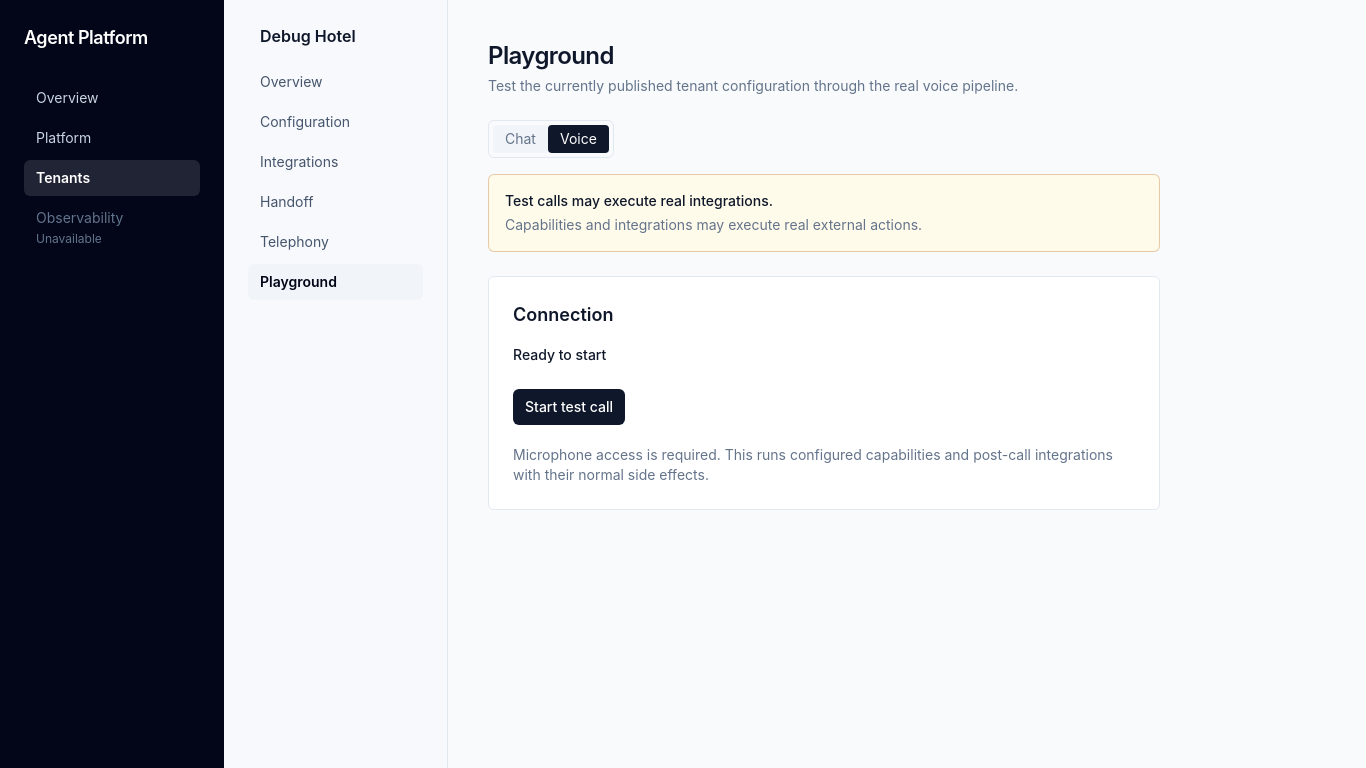
Test: Playground voice call › distinguishes session, connection, and lost-connection failures
The width and height of the screenshot is (1366, 768).
Click the button "Start test call" at (569, 407), box [513,389,625,425]
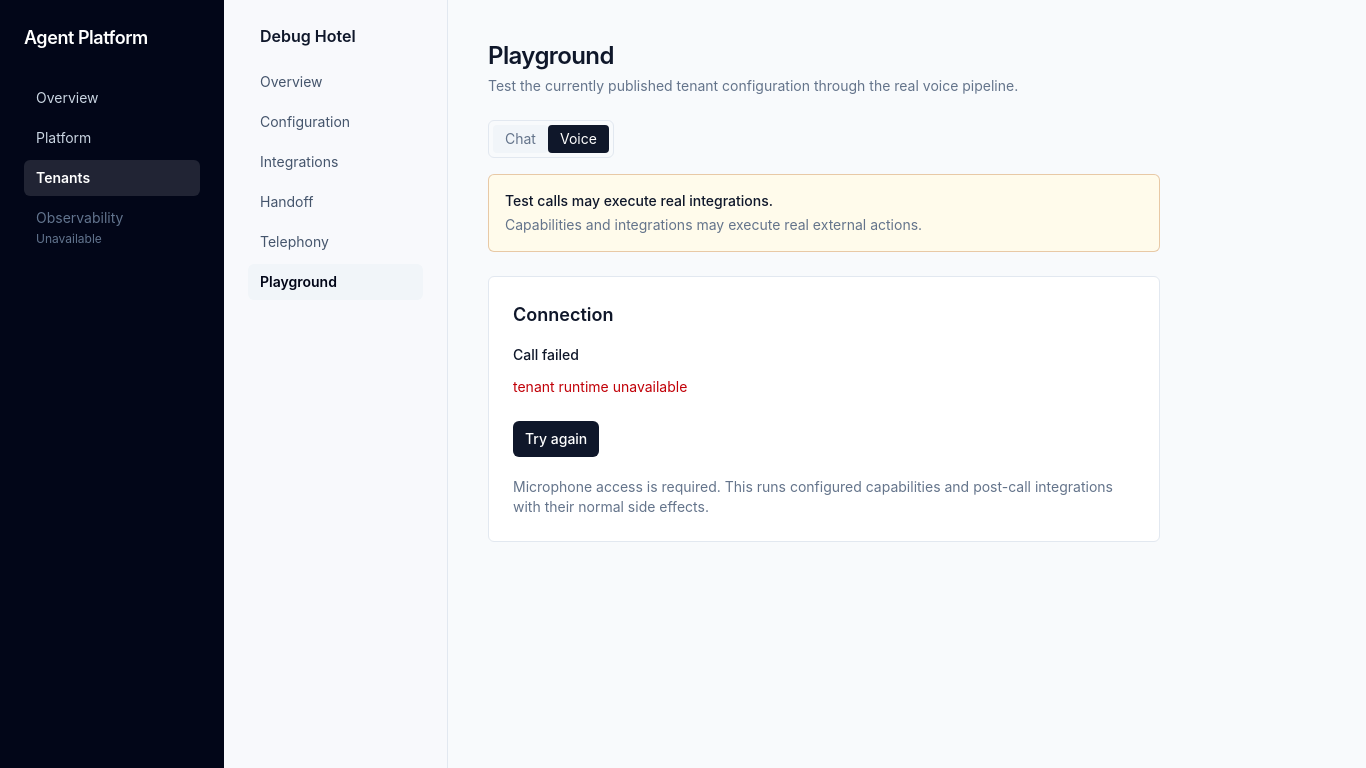
Expected: the text "tenant runtime unavailable" is shown, [513,378,687,395]
Click the button "Try again" at (556, 439), box [513,421,599,457]
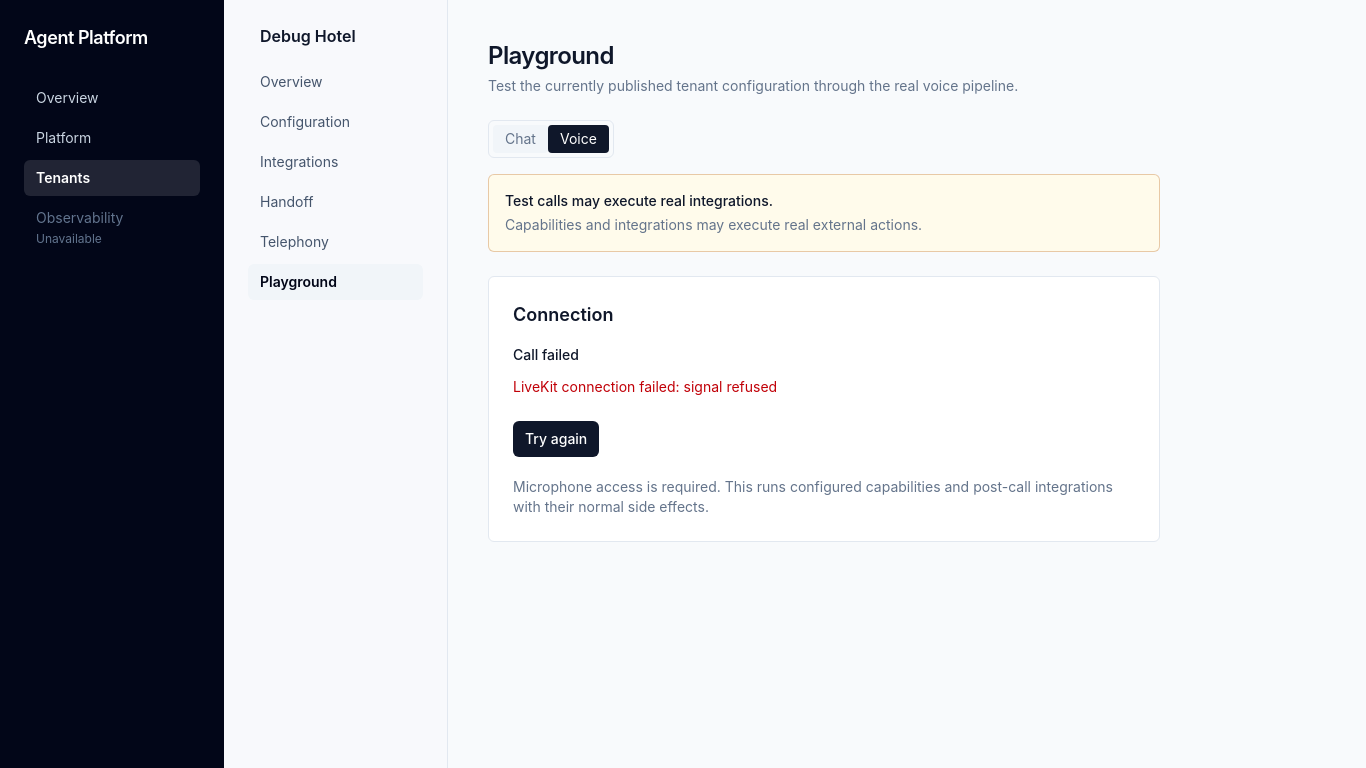
Expected: the text "LiveKit connection failed: signal refused" is shown, [513,378,777,395]
Click the button "Try again" at (556, 439), box [513,421,599,457]
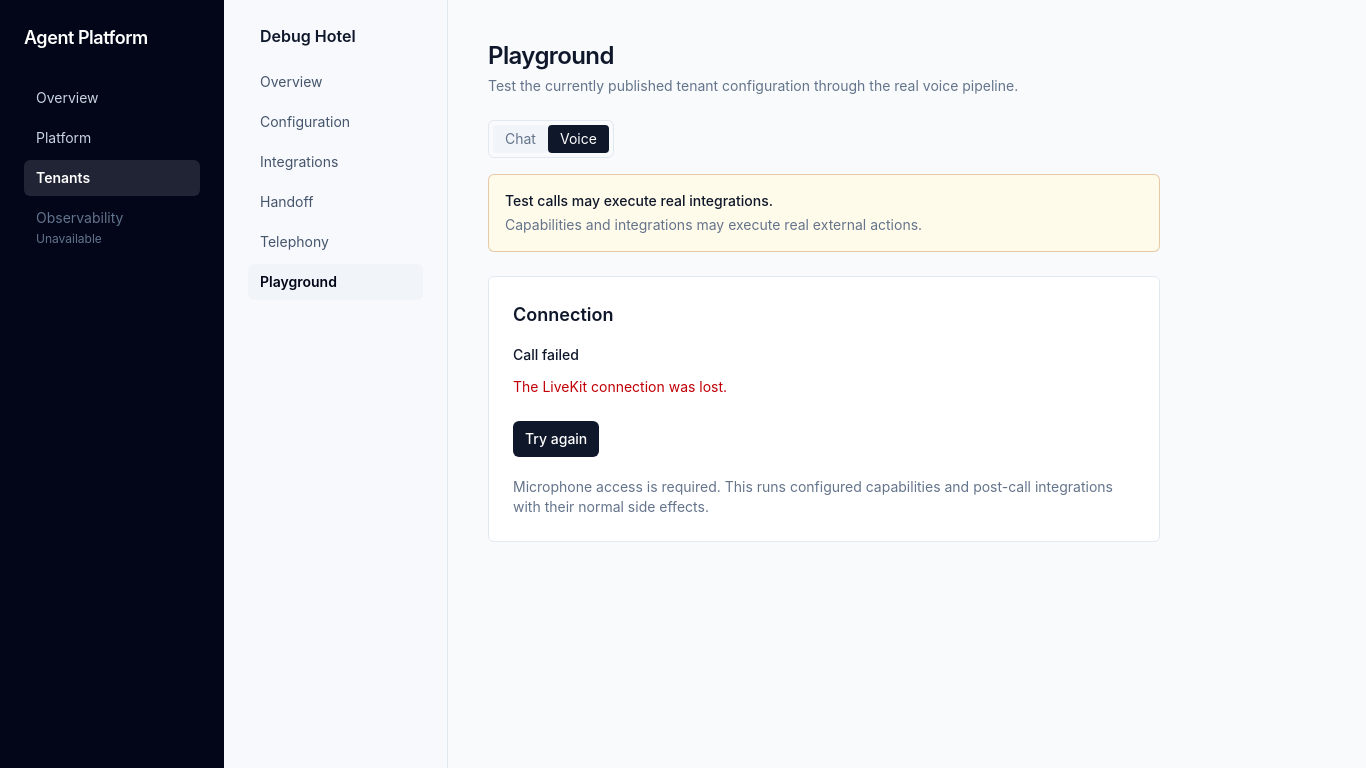
Expected: the text "Connected" is shown, [513,346,579,363]
Expected: the text "The LiveKit connection was lost." is shown, [513,378,727,395]
